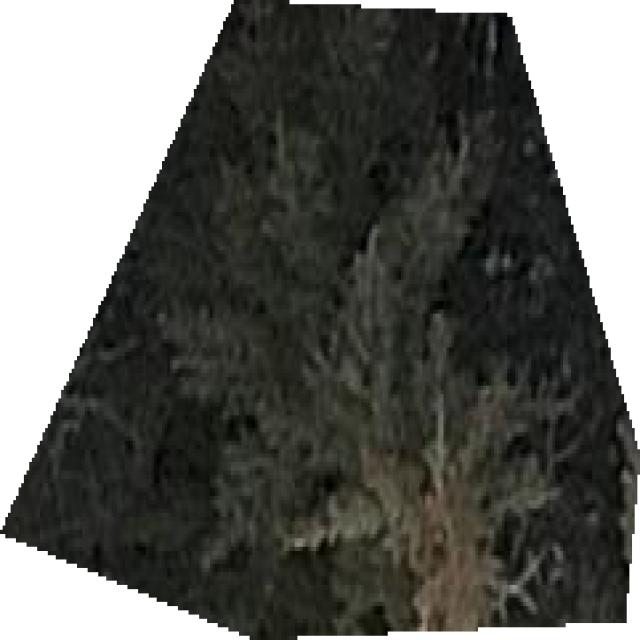spruce: (0, 0, 637, 636)
